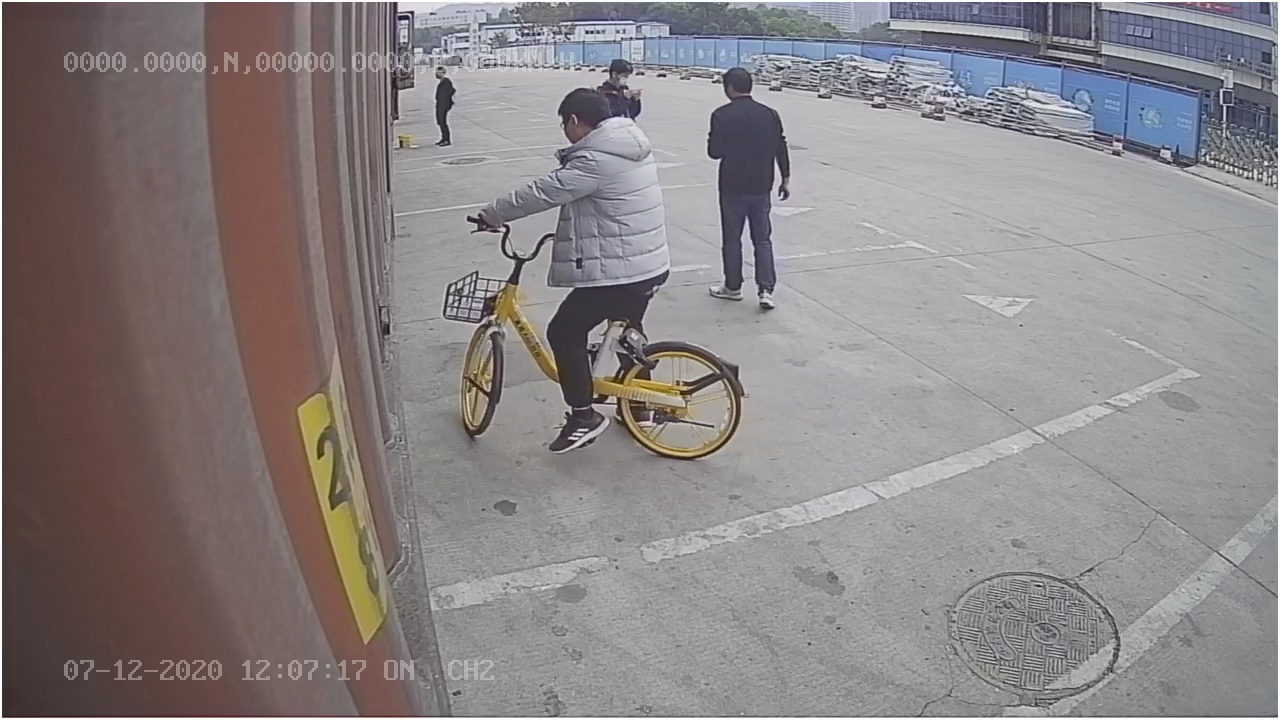person: (706, 66, 794, 317)
